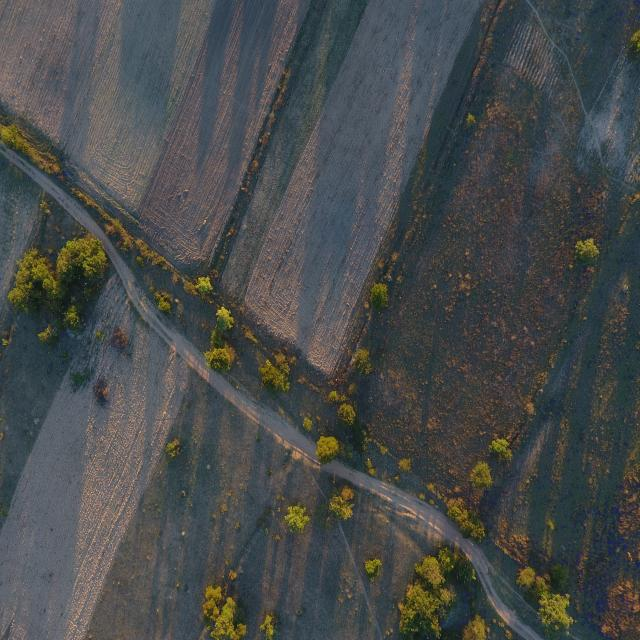boundaries: (12, 12, 493, 433)
